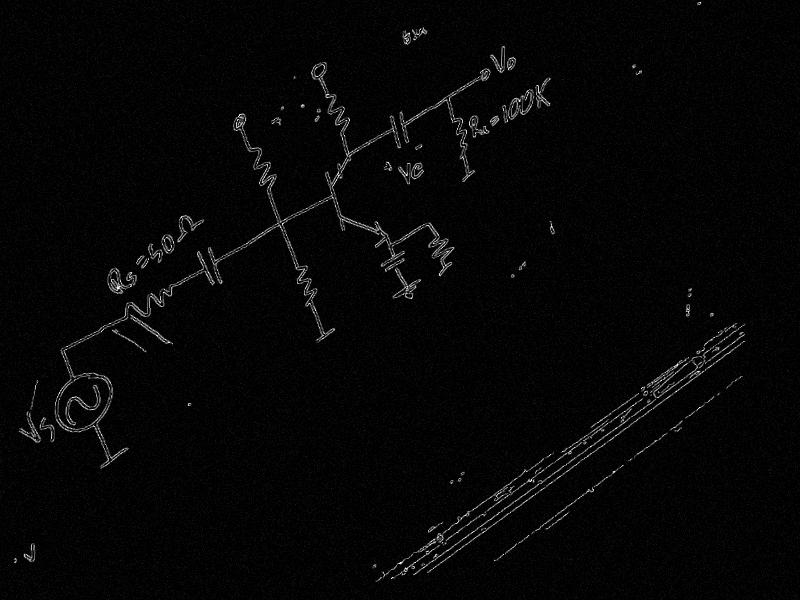-: (414, 142, 423, 152)
0: (518, 86, 536, 117), (160, 231, 175, 257), (507, 95, 521, 120), (506, 54, 517, 71)
1: (500, 102, 510, 125)
5: (146, 240, 164, 266), (125, 269, 138, 287)
V: (18, 407, 45, 449), (488, 43, 506, 75), (396, 159, 412, 188)
k: (534, 75, 553, 110)
